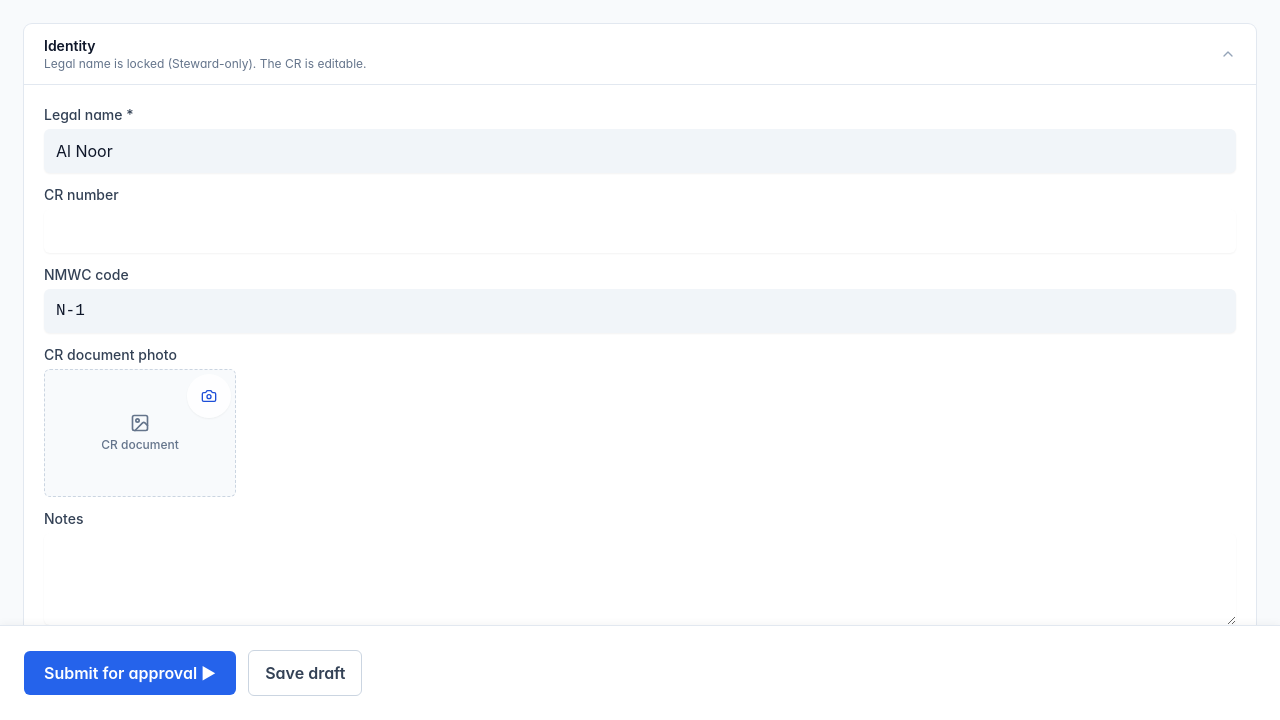
the customer update form › a first-time submit is said beside the button before it moves on, by a document load (no stale cache, forward or Back)
Click the button "Submit for approval ▶": (130, 673) [24,651,236,695]
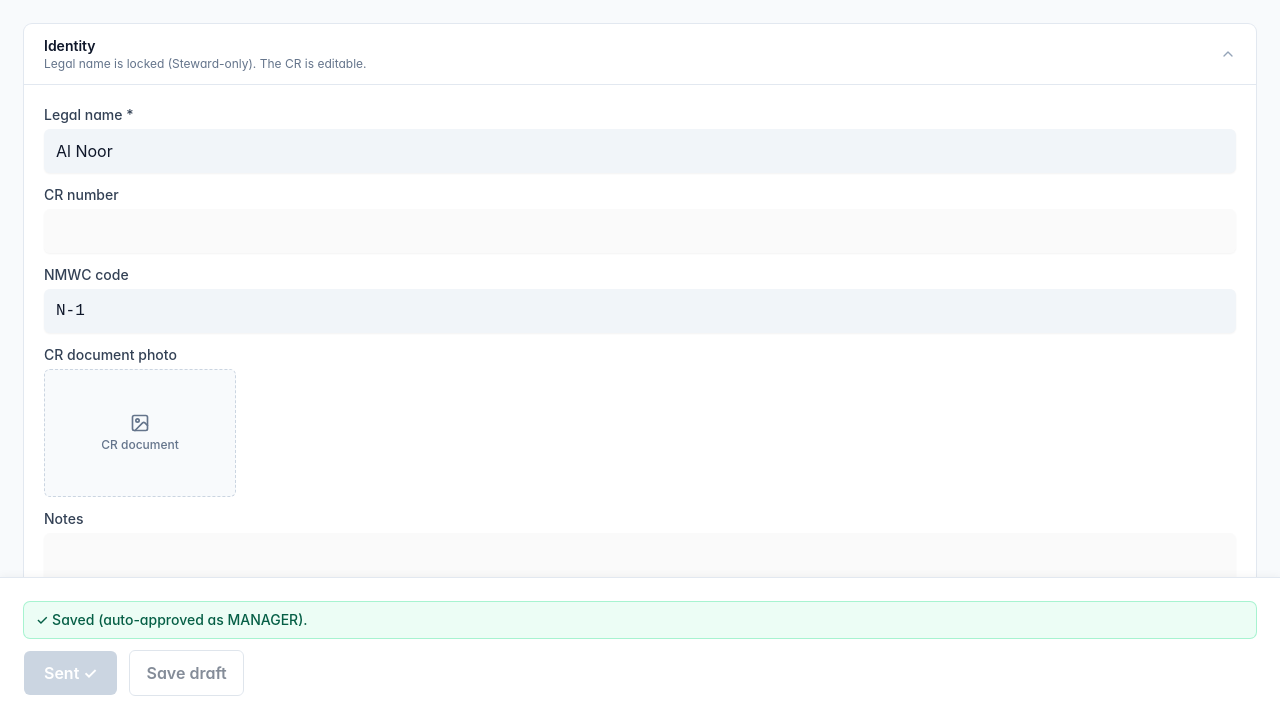
Expected: the message reads "✓ Saved (auto-approved as MANAGER).", [36,611,308,628]
Expected: the button "Sent ✓" is shown, [24,651,118,695]
